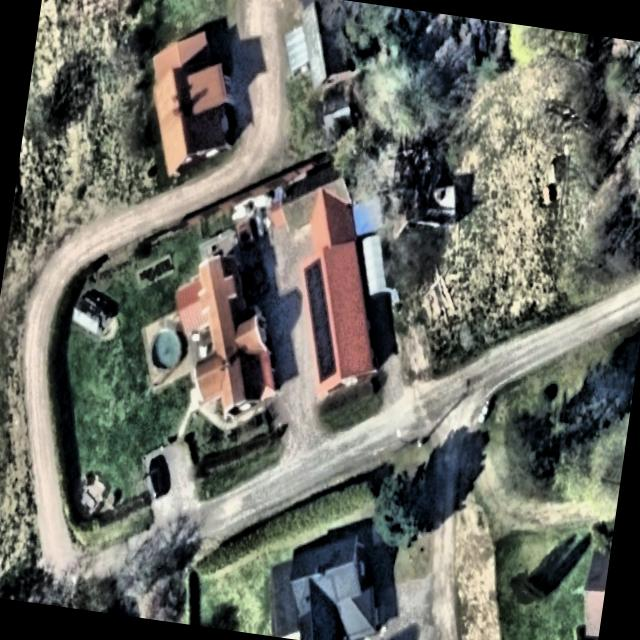roof_pv: (299, 308, 346, 384), (298, 256, 336, 312)
